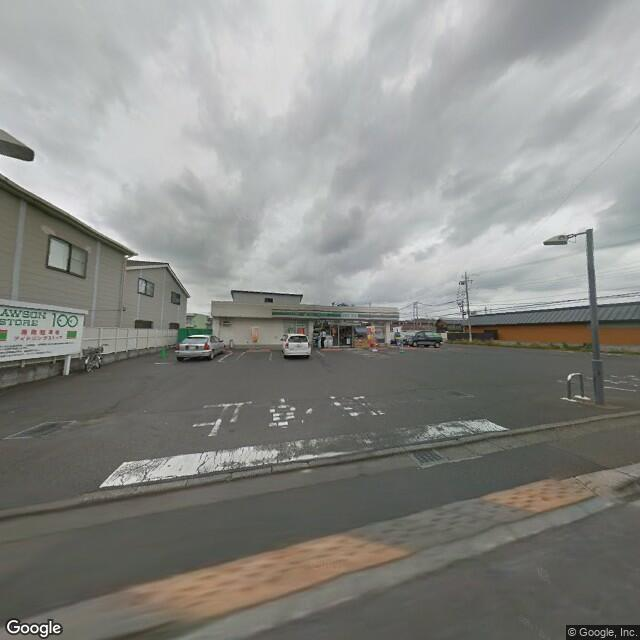lawson: (1, 300, 87, 332), (269, 305, 401, 324)
